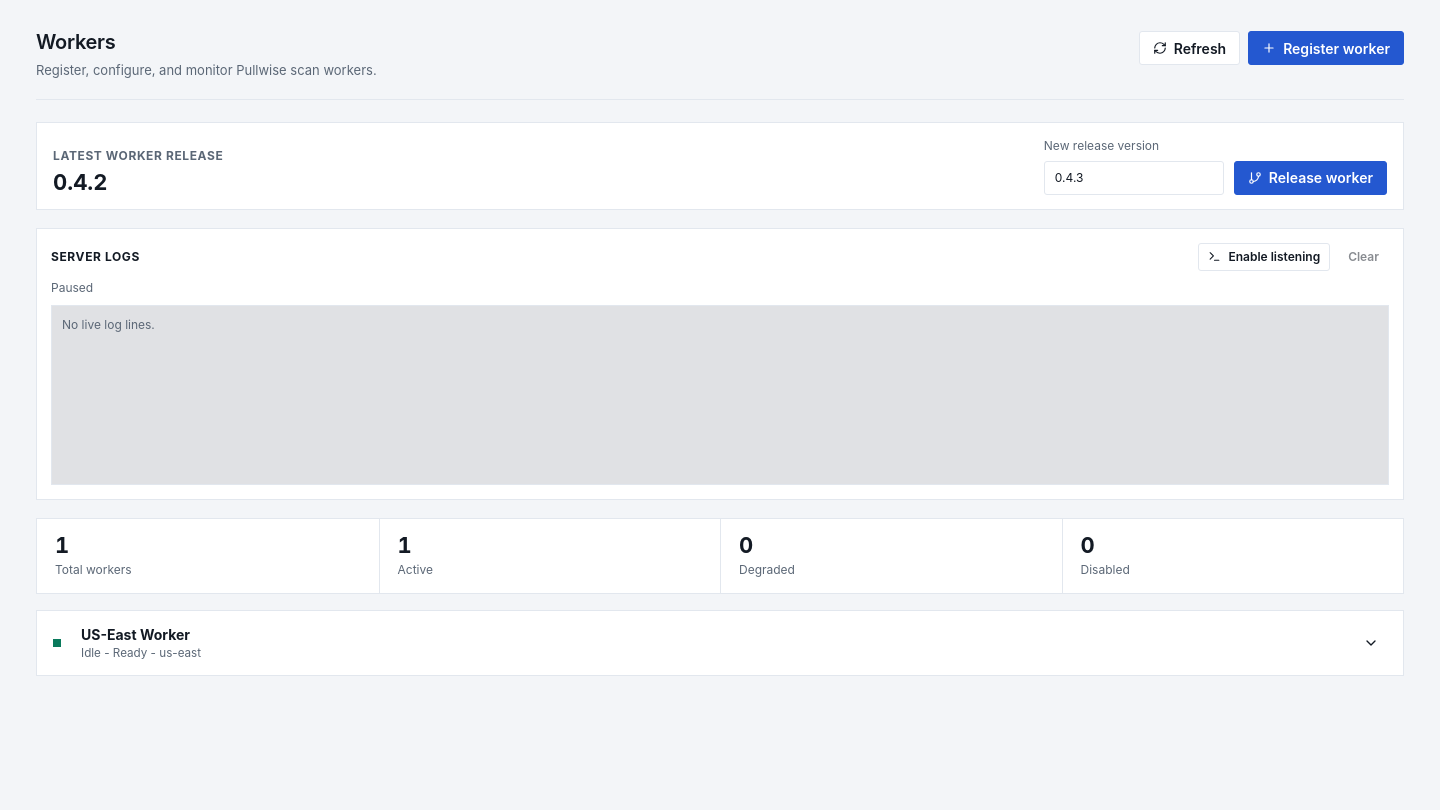
Test: WorkersScreen › refreshes quota and machine metrics for the expanded worker
Click the button "US-East Worker Idle - Ready - us-east". click: coordinates (136, 634)
box: [37, 611, 1403, 675]
(page scrolled)
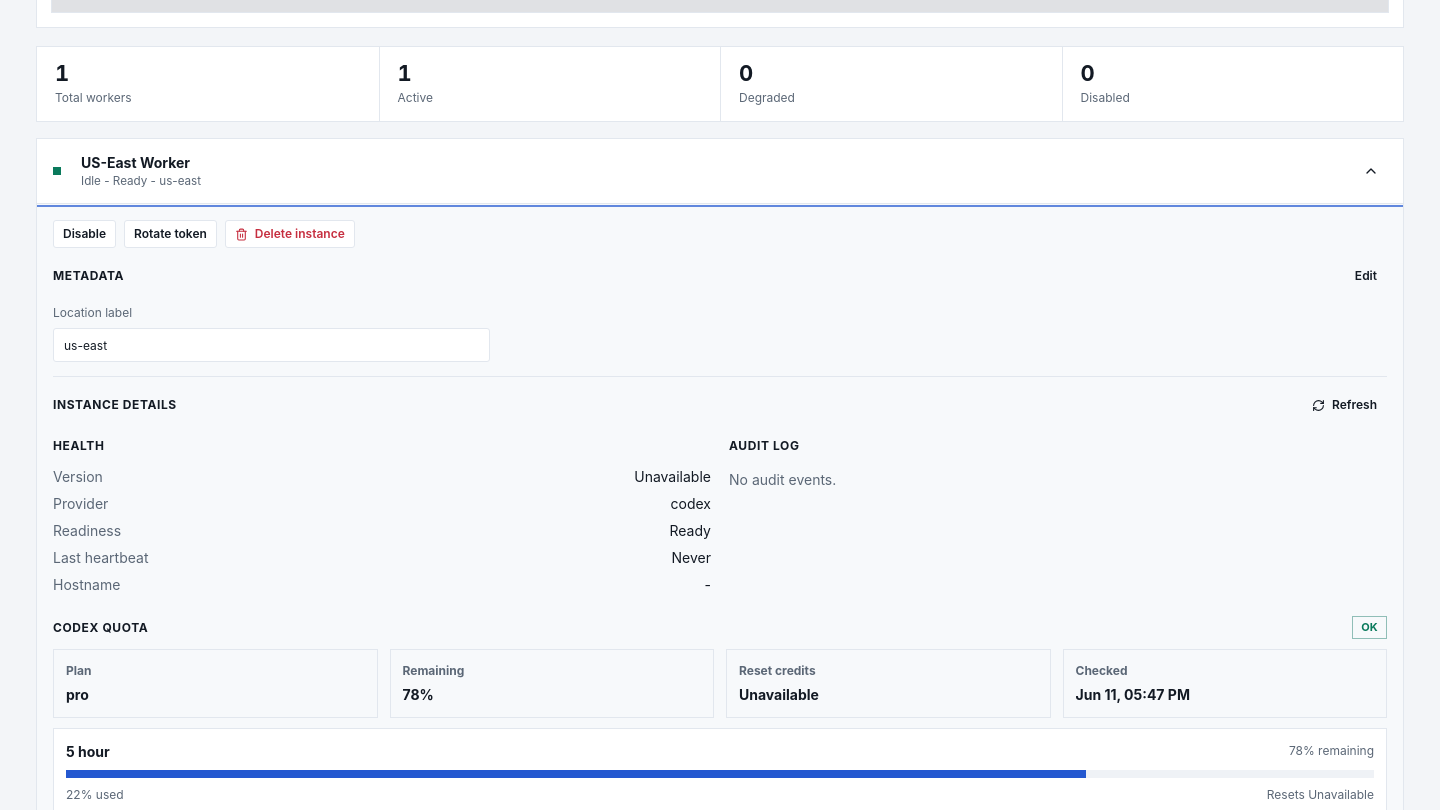
expect the text "78% remaining" is shown: met, box [1289, 742, 1374, 760]
Click the button with aria-label "refresh worker details". click: coordinates (1344, 405)
box: [1302, 391, 1387, 419]
(page scrolled)
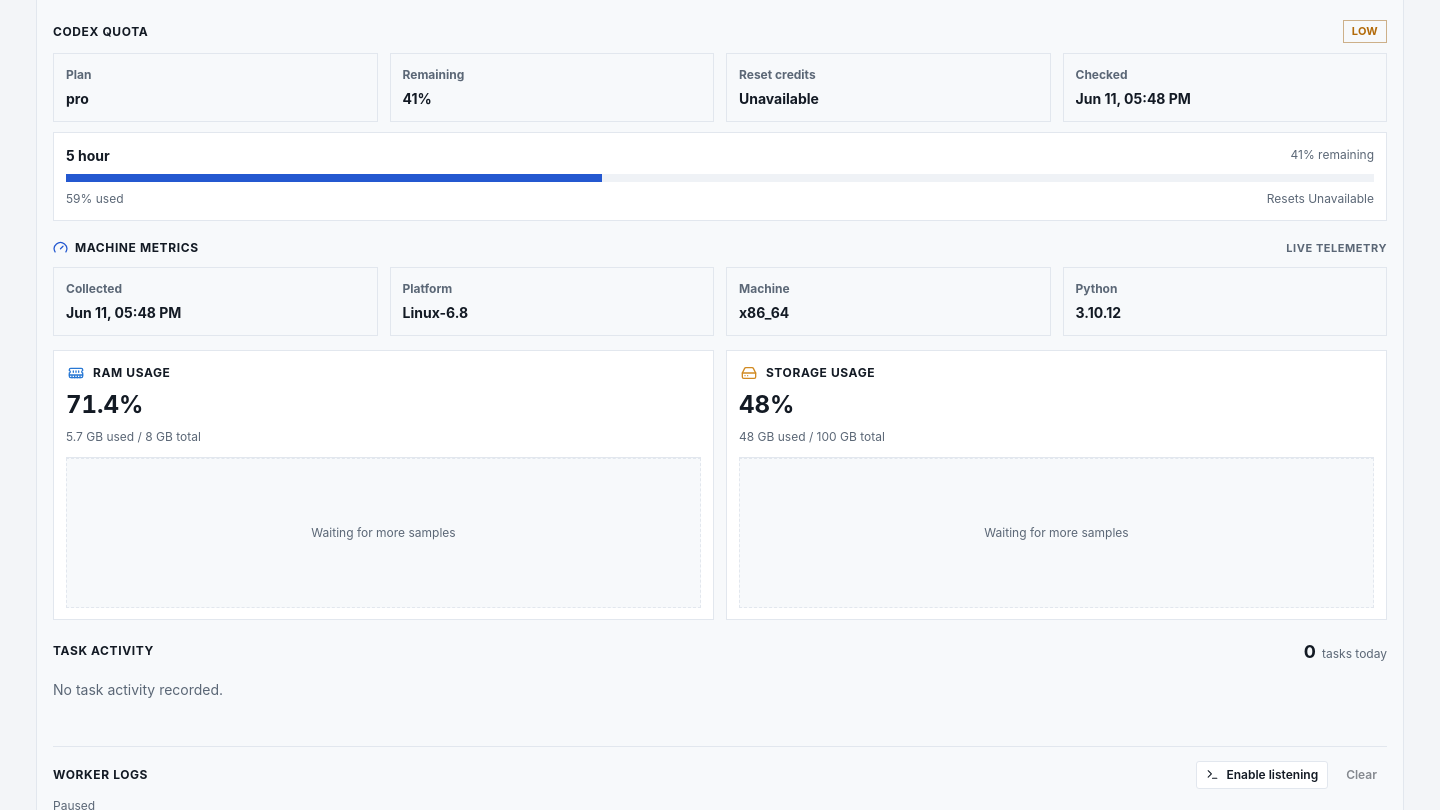
expect the text "41% remaining" is shown: met, box [1290, 146, 1374, 164]
expect the text "71.4%" is shown: met, box [66, 390, 143, 419]
expect the text "78% remaining" is gone: met
